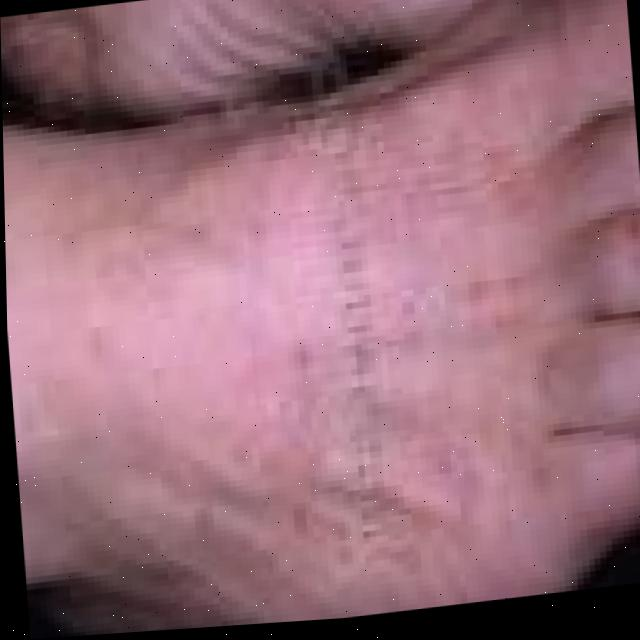Melasma: (242, 74, 496, 538)
